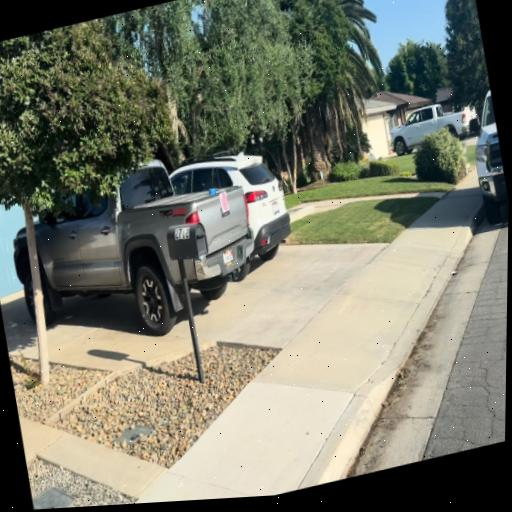bullseye: (219, 191, 229, 212)
